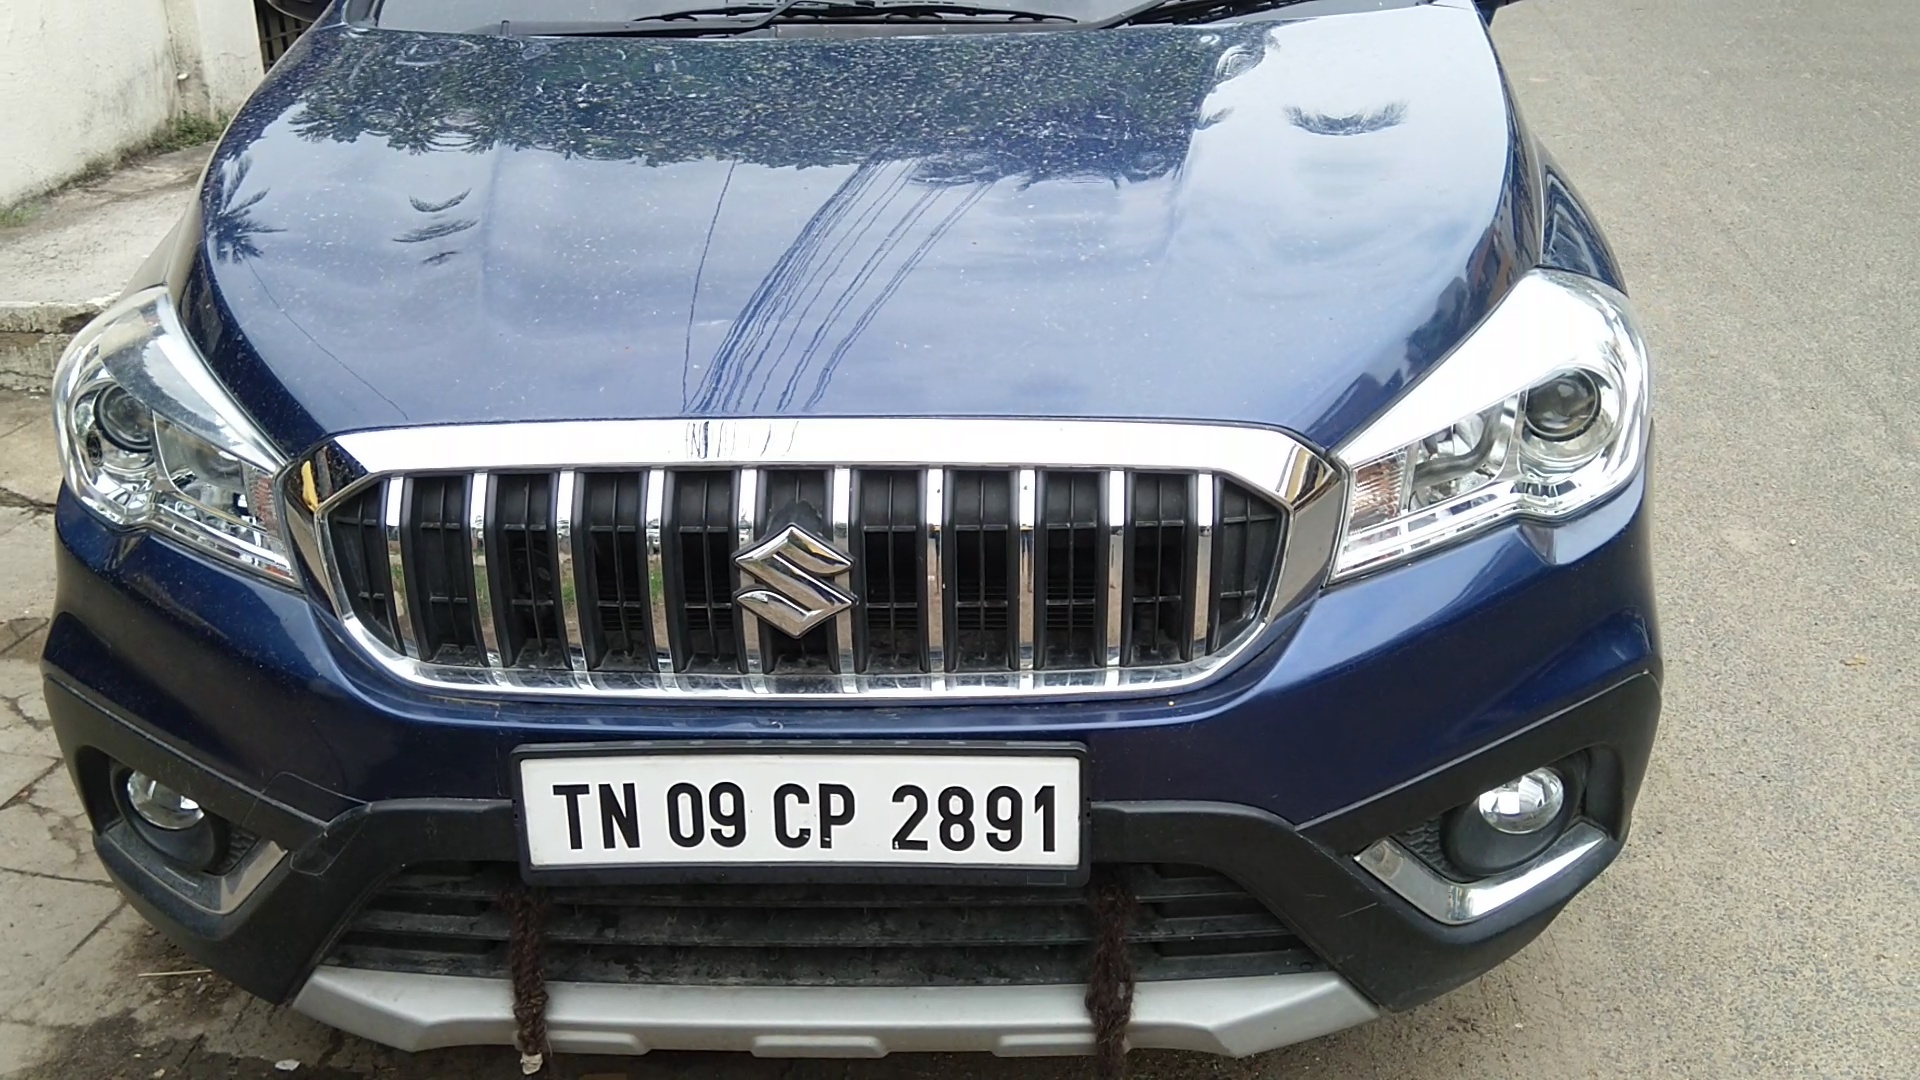front_grill: (294, 413, 1341, 716)
headlamp: (1338, 258, 1658, 593), (47, 284, 294, 608)
